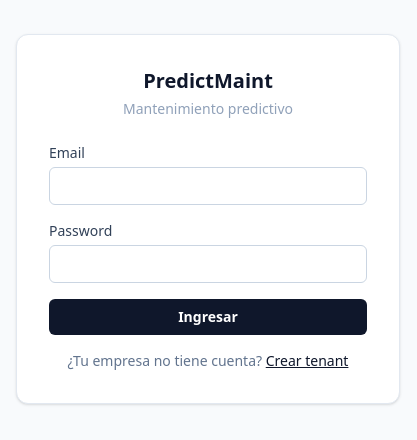
Scenario: LoginPage › muestra un mensaje genérico si la respuesta de error no trae 'detail'
The image size is (417, 440).
In the field labelled "Email": (208, 186) [49,167,367,205], type "admin@acme.com"
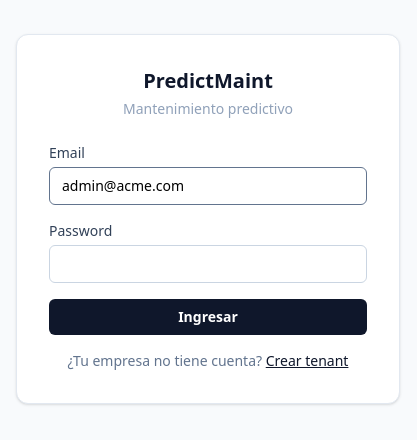
In the password field labelled "Password": (208, 264) [49,245,367,283], type "supersecret123"
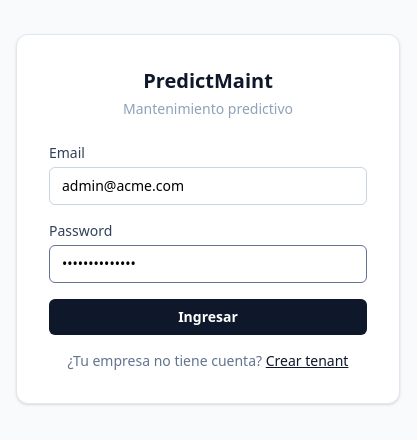
Click the button "Ingresar": (208, 317) [49,299,367,335]
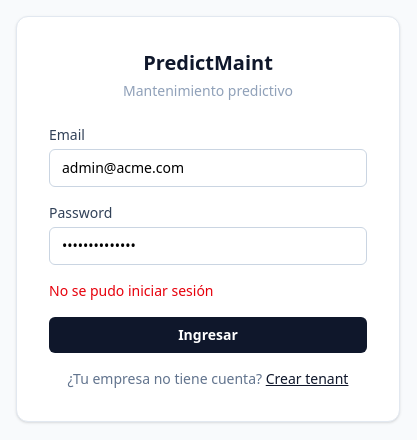
Now the text "No se pudo iniciar sesión" is shown, box [49,281,214,300]
